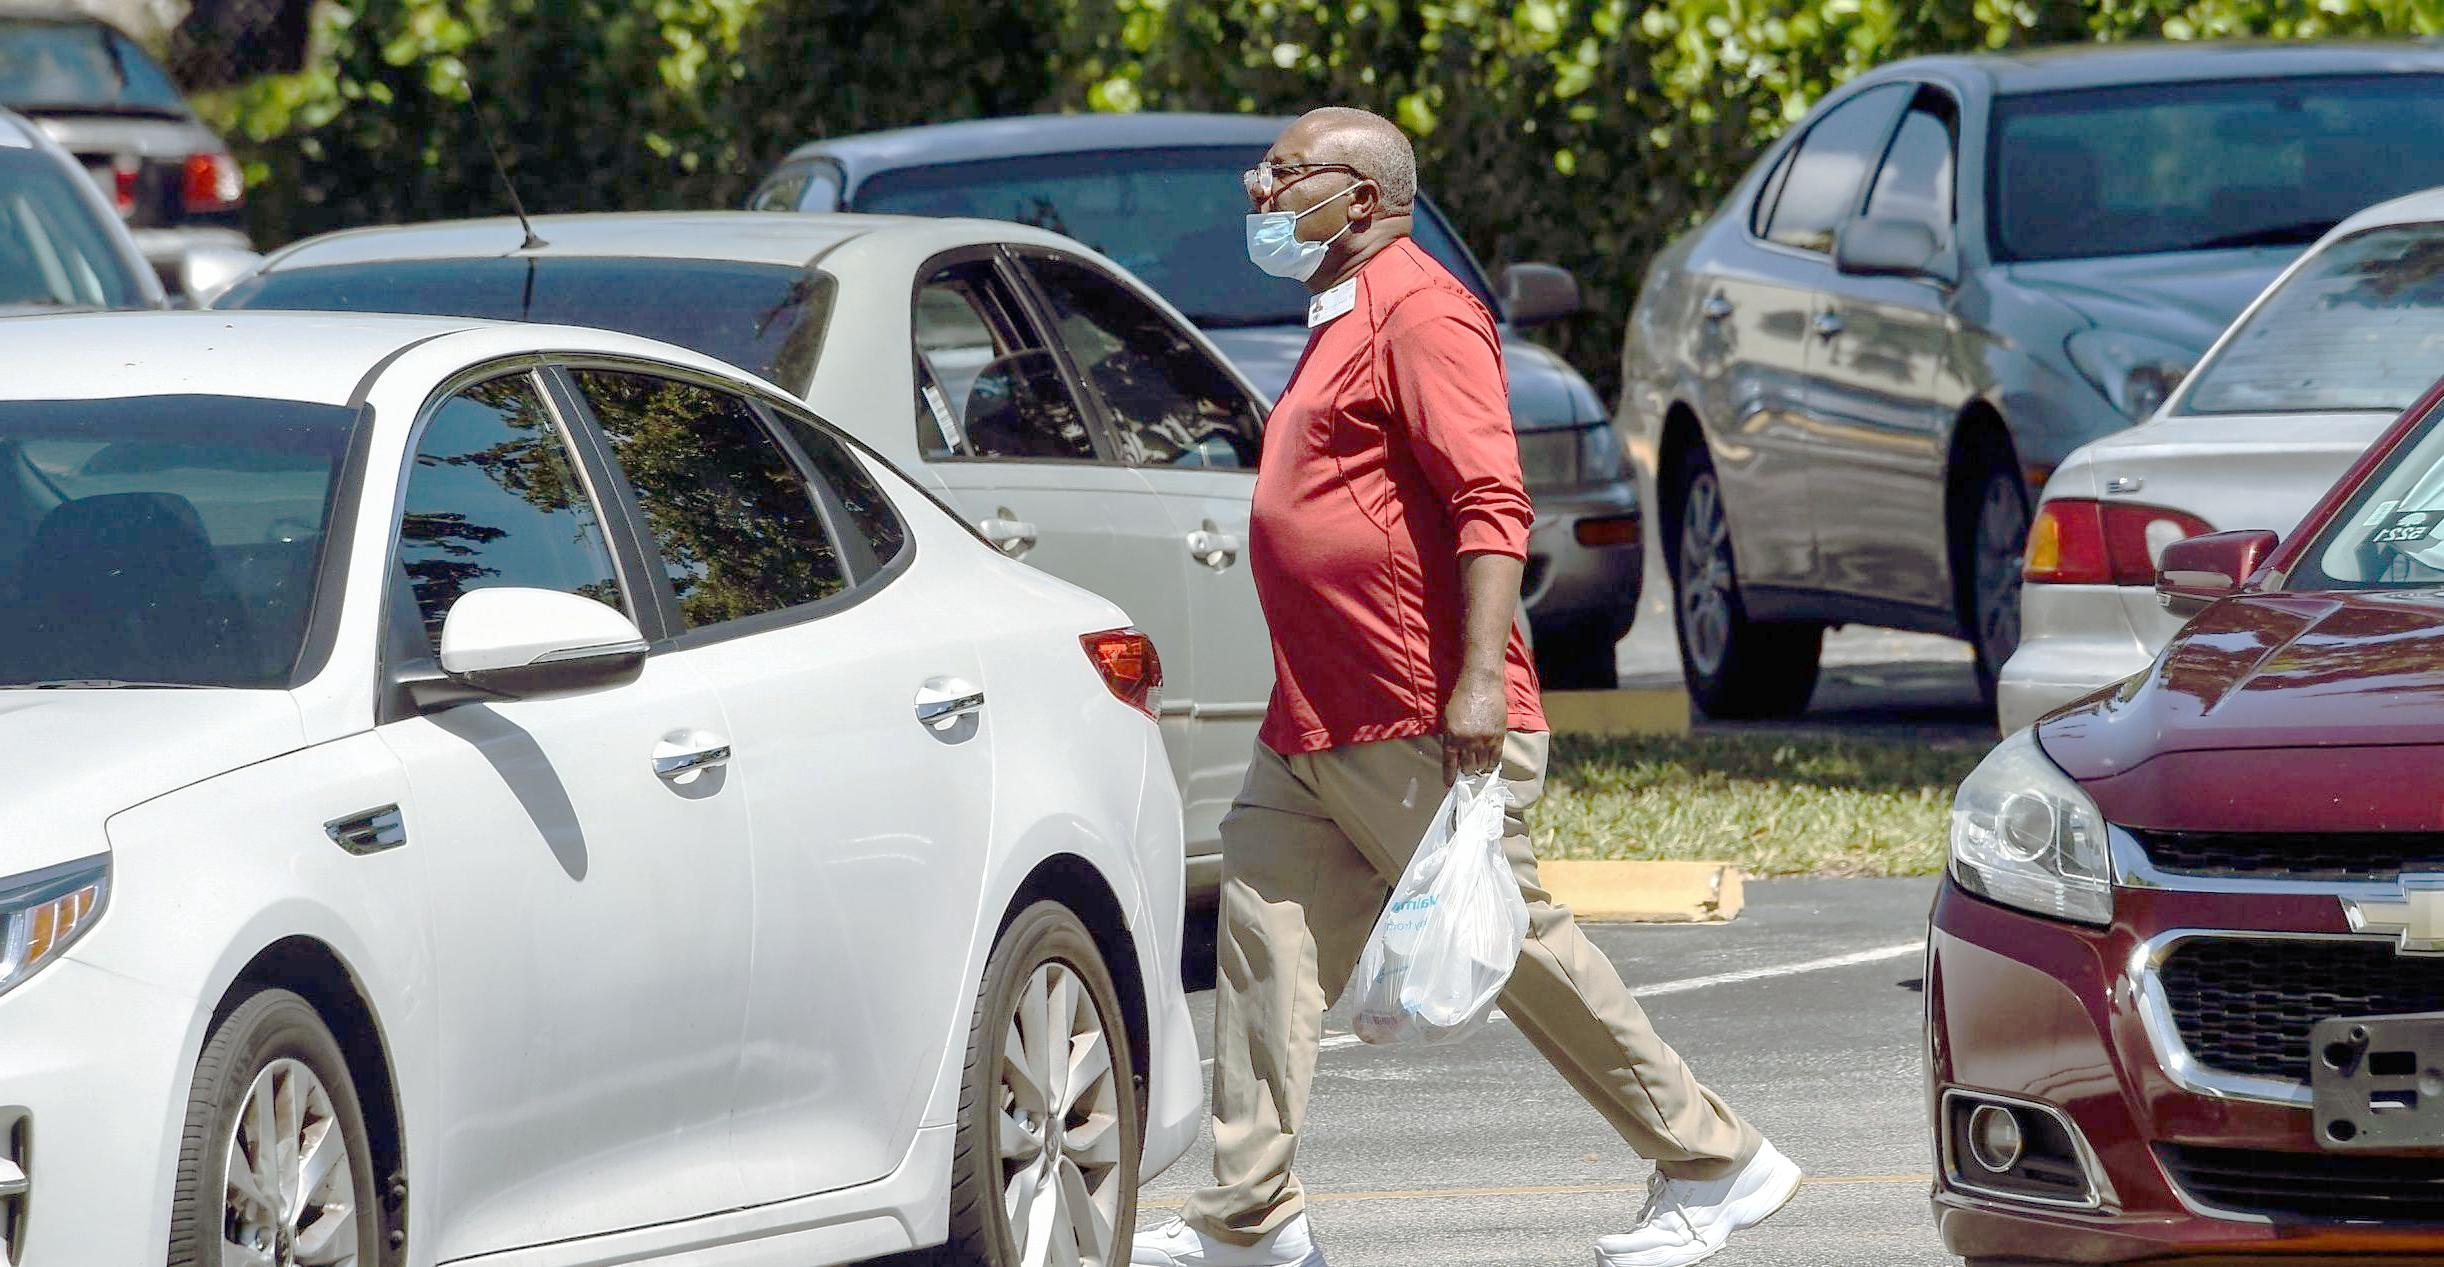mask_weared_incorrect: (1209, 98, 1395, 318), (1235, 106, 1429, 295)
